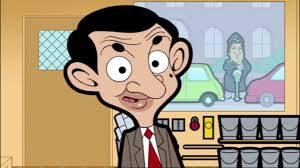mrbean: (63, 5, 193, 168)
